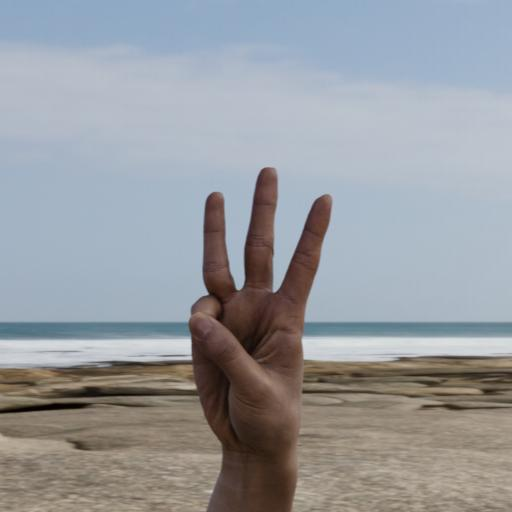W: (182, 162, 340, 472)
